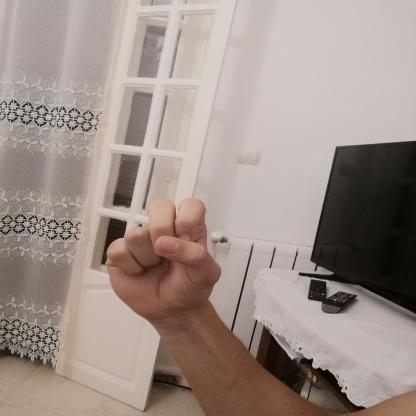QAAF: (94, 190, 236, 332)
